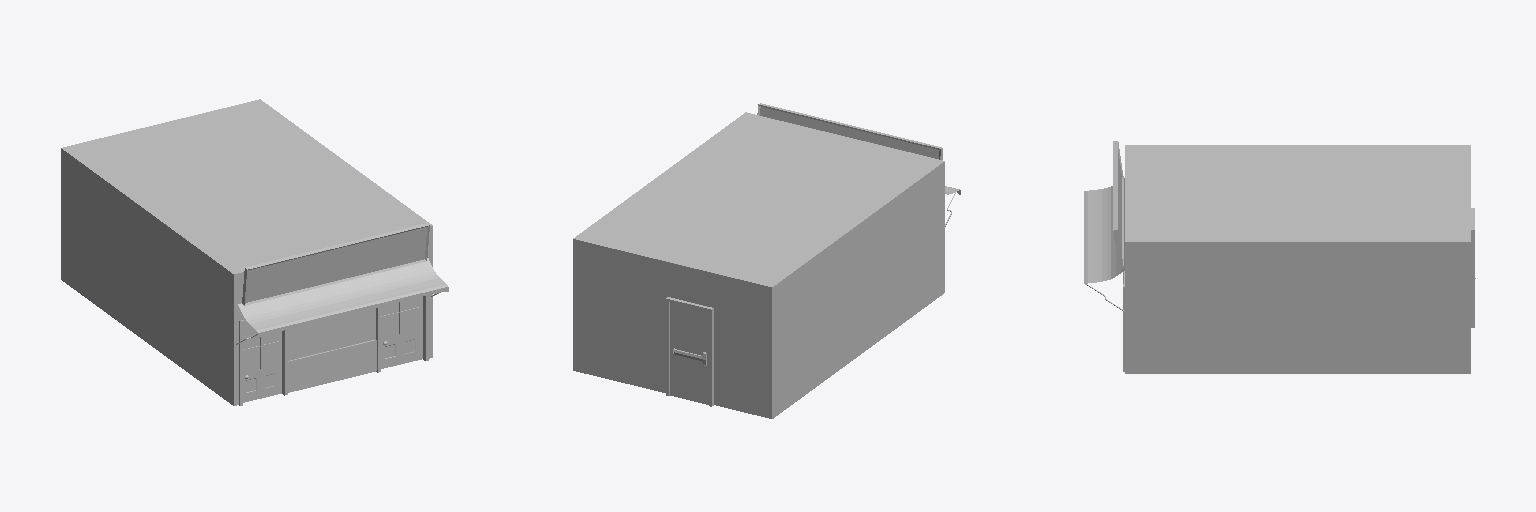
Rendered from Small_Shop.obj.
3 renders of one model, left to right at view 1: azimuth 30°, elevation 25°; view 2: azimuth 150°, elevation 25°; view 3: azimuth 270°, elevation 25°, orthographic.
Parts seen in each view (by area): view 1: Small_Shop Buildings, Small_Shop Buildings Sign_Board, Small_Shop Buildings Cover, Small_Shop Buildings Glass, Small_Shop Buildings Frame Shop_Door8, Small_Shop Buildings Frame Shop_Door7, Small_Shop Buildings Shop_Door7 Glass, Small_Shop Buildings Shop_Door8 Glass; view 2: Small_Shop Buildings, Small_Shop Buildings pCube12 Fire_Exit5, Small_Shop Buildings Sign_Board; view 3: Small_Shop Buildings, Small_Shop Buildings Cover, Small_Shop Buildings Sign_Board.
Boxes of the visible parts, <box> form: Small_Shop Buildings: <box>61,99,432,405</box>; Small_Shop Buildings Sign_Board: <box>242,223,429,305</box>; Small_Shop Buildings Cover: <box>238,258,448,338</box>; Small_Shop Buildings Glass: <box>288,309,375,360</box>; Small_Shop Buildings Frame Shop_Door8: <box>376,296,428,372</box>; Small_Shop Buildings Frame Shop_Door7: <box>239,320,287,405</box>; Small_Shop Buildings Shop_Door7 Glass: <box>243,326,278,371</box>; Small_Shop Buildings Shop_Door8 Glass: <box>381,298,418,337</box>; Small_Shop Buildings: <box>573,112,944,418</box>; Small_Shop Buildings pCube12 Fire_Exit5: <box>666,297,713,406</box>; Small_Shop Buildings Sign_Board: <box>757,103,942,159</box>; Small_Shop Buildings: <box>1125,145,1470,373</box>; Small_Shop Buildings Cover: <box>1084,178,1124,283</box>; Small_Shop Buildings Sign_Board: <box>1113,141,1123,268</box>.
Bounding box in the file's own units: 30.99 × 20.86 × 52.64.